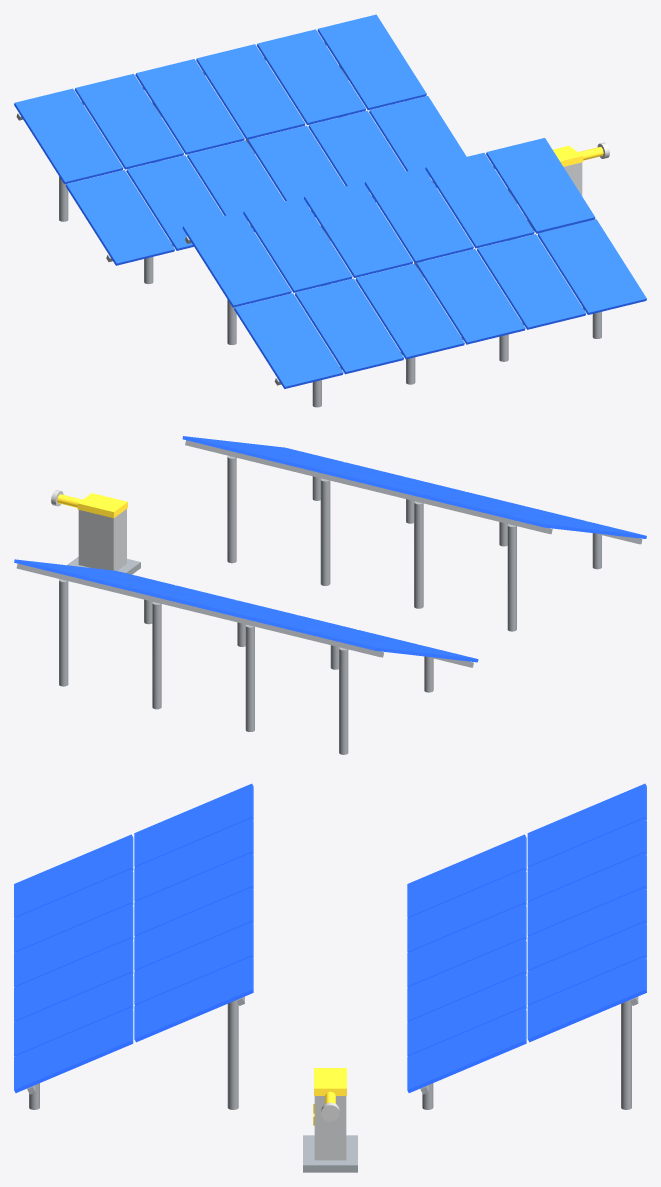
File: PV-ground.glb
3 renders of one model, top to bottom at view 1: azimuth 30°, elevation 25°; view 2: azimuth 150°, elevation 25°; view 3: azimuth 270°, elevation 25°, orthographic. The views are drawn at different scales.
Parts seen in each view (by area): view 1: pv_panel (×24); view 2: pv_panel (×24), leg (×8), rail (×2), inverter, band; view 3: pv_panel (×24), leg (×2), inverter, plinth, band.
Part boxes in pixels (x1,y1,x2,y2): pv_panel (×24): [14, 14, 646, 388]; pv_panel (×24): [14, 436, 646, 662]; leg (×8): [59, 455, 516, 754]; rail (×2): [16, 440, 552, 657]; inverter: [78, 509, 126, 570]; band: [77, 493, 127, 518]; pv_panel (×24): [14, 783, 646, 1092]; leg (×2): [227, 1000, 631, 1109]; inverter: [314, 1096, 346, 1160]; plinth: [303, 1135, 357, 1172]; band: [314, 1068, 346, 1095].
Bounding box in the file's own units: 7.84 × 1.98 × 8.05.
